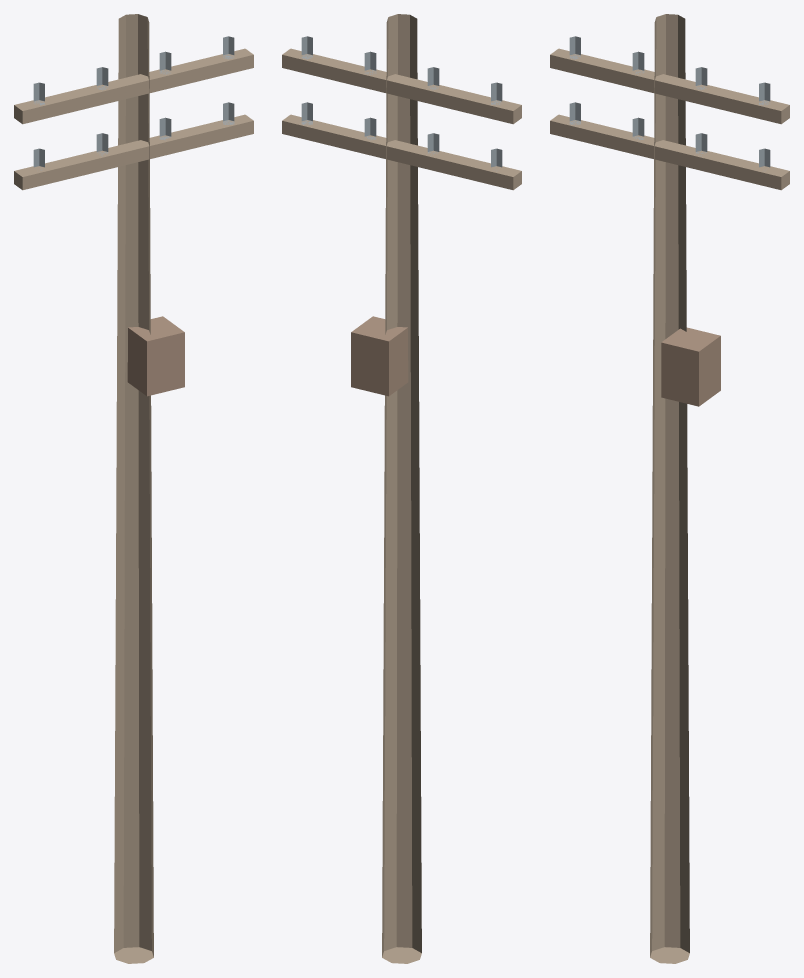
The model's file is utility_pole.glb.
The picture shows the model from 3 angles, left to right: view 1: azimuth 30°, elevation 25°; view 2: azimuth 150°, elevation 25°; view 3: azimuth 330°, elevation 25°; orthographic projection.
Visible parts, largest first — view 1: props_utility_pole; view 2: props_utility_pole; view 3: props_utility_pole.
Part boxes in pixels (x1,y1,x2,y2): props_utility_pole: [14, 14, 253, 963]; props_utility_pole: [282, 14, 521, 963]; props_utility_pole: [550, 14, 789, 963].
Bounding box in the file's own units: 2.2 × 8.5 × 0.3601.
